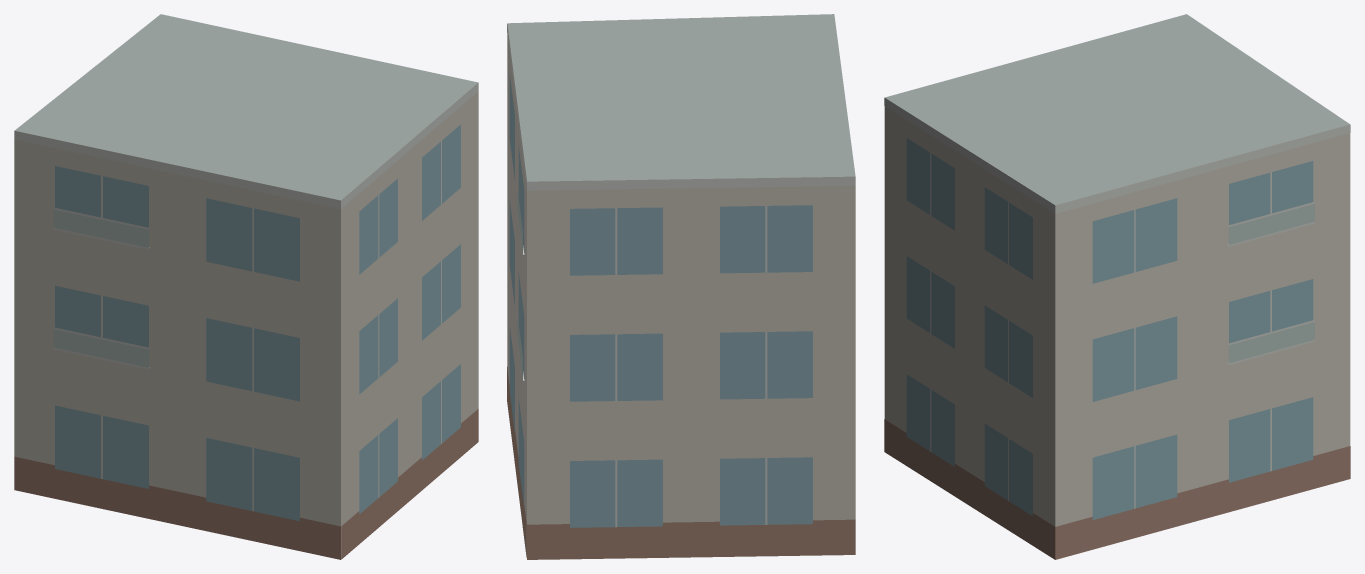
File: survey-upis-32601167.glb
3 views of the same model, side by side, from view 1: azimuth 30°, elevation 25°; view 2: azimuth 150°, elevation 25°; view 3: azimuth 270°, elevation 25° (orthographic). The views are drawn at different scales.
Parts seen in each view (by area): view 1: survey-upis-32601167.tmp; view 2: survey-upis-32601167.tmp; view 3: survey-upis-32601167.tmp.
Boxes of the visible parts, x1,y1,x2,y2 form: survey-upis-32601167.tmp: (14,14,478,559); survey-upis-32601167.tmp: (507,14,855,559); survey-upis-32601167.tmp: (884,14,1350,559).
Bounding box in the file's own units: 11.82 × 10.2 × 12.16.
